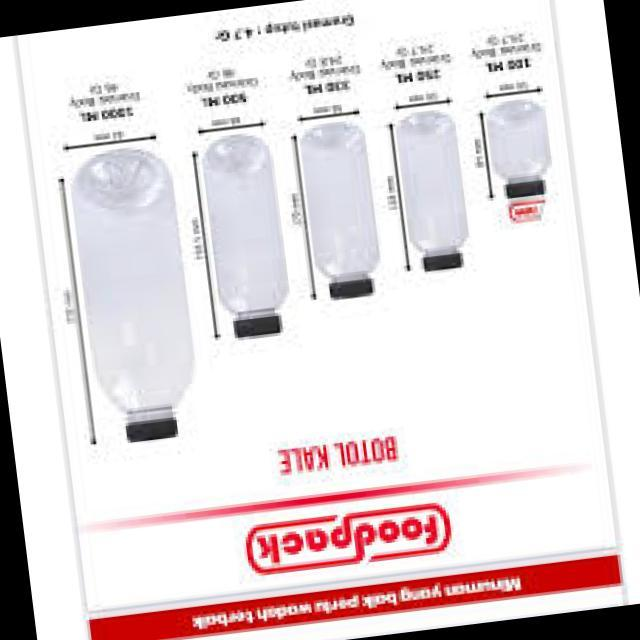good: (282, 93, 384, 320)
